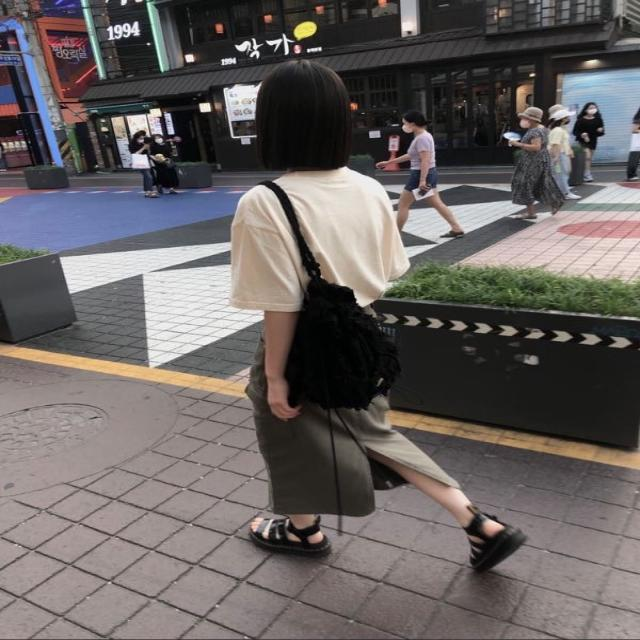shortsleeve: (230, 165, 410, 311)
skirt: (248, 321, 464, 517)
